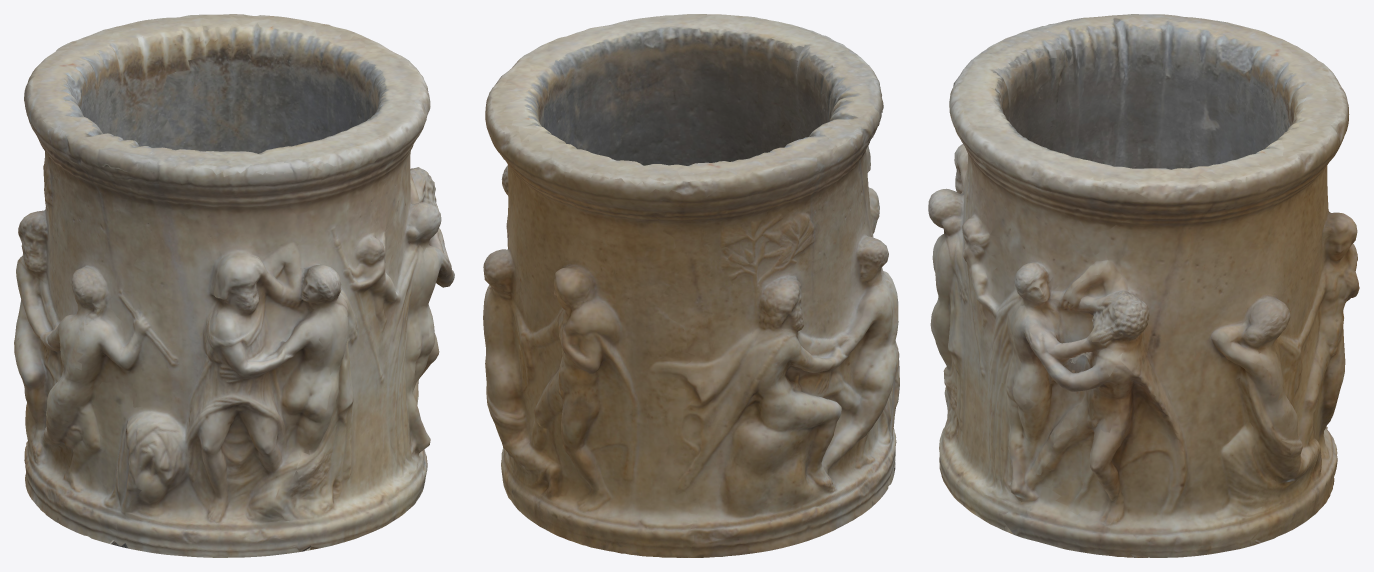
Rendered from decimated_well.glb.
3 views of the same model, side by side, from view 1: azimuth 30°, elevation 25°; view 2: azimuth 150°, elevation 25°; view 3: azimuth 270°, elevation 25° (orthographic).
Visible parts, largest first — view 1: Object_10; view 2: Object_10; view 3: Object_10.
Part boxes in pixels (<box>): Object_10: <box>14,14,454,557</box>; Object_10: <box>483,14,899,557</box>; Object_10: <box>928,14,1359,557</box>.
Bounding box in the file's own units: 4.36 × 4.26 × 4.26.
2 materials, 2 textured.
